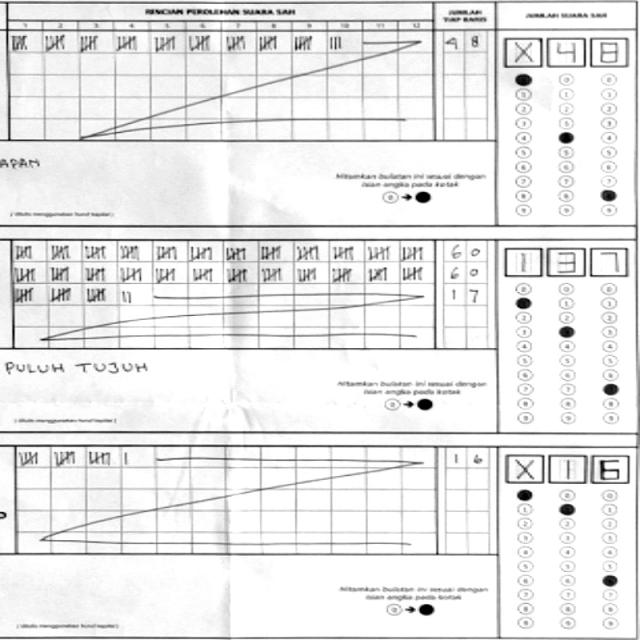Suara: (494, 446, 632, 484), (498, 33, 630, 69), (504, 244, 637, 278)
